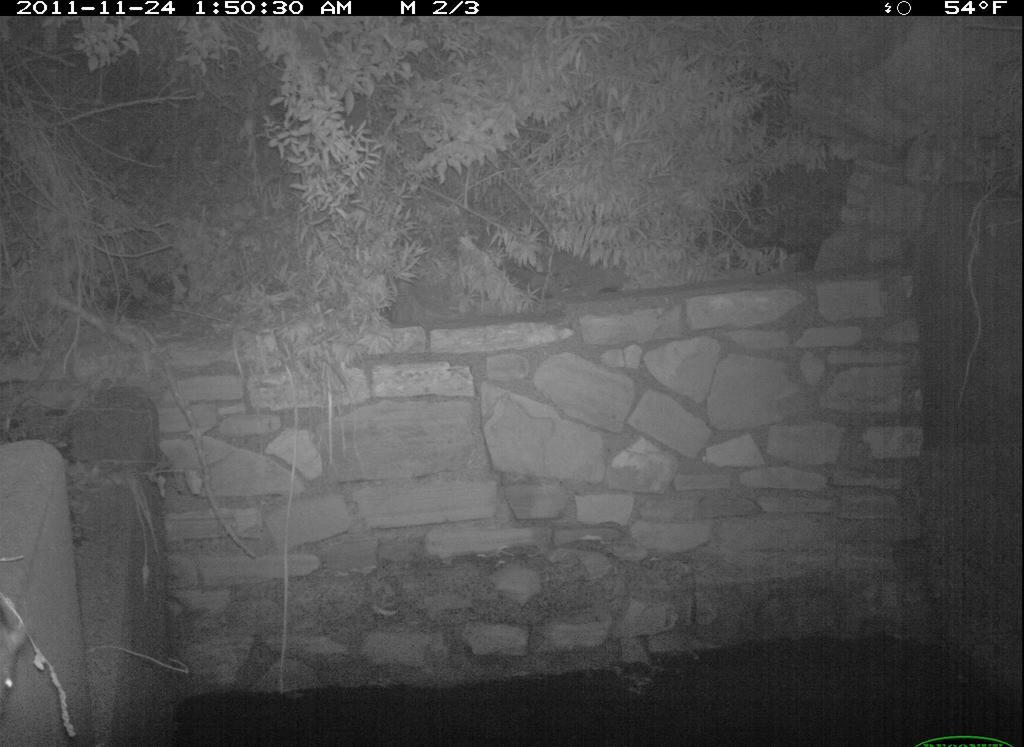rodent: (1, 594, 32, 714)
